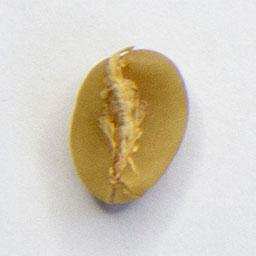defect: (67, 43, 192, 208)
